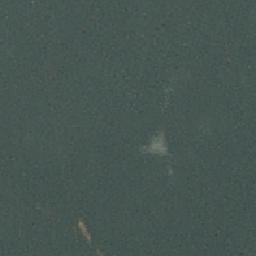cloud: (139, 127, 173, 174)
debris: (77, 221, 93, 243)
